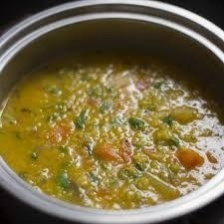dal: (0, 47, 224, 213)
